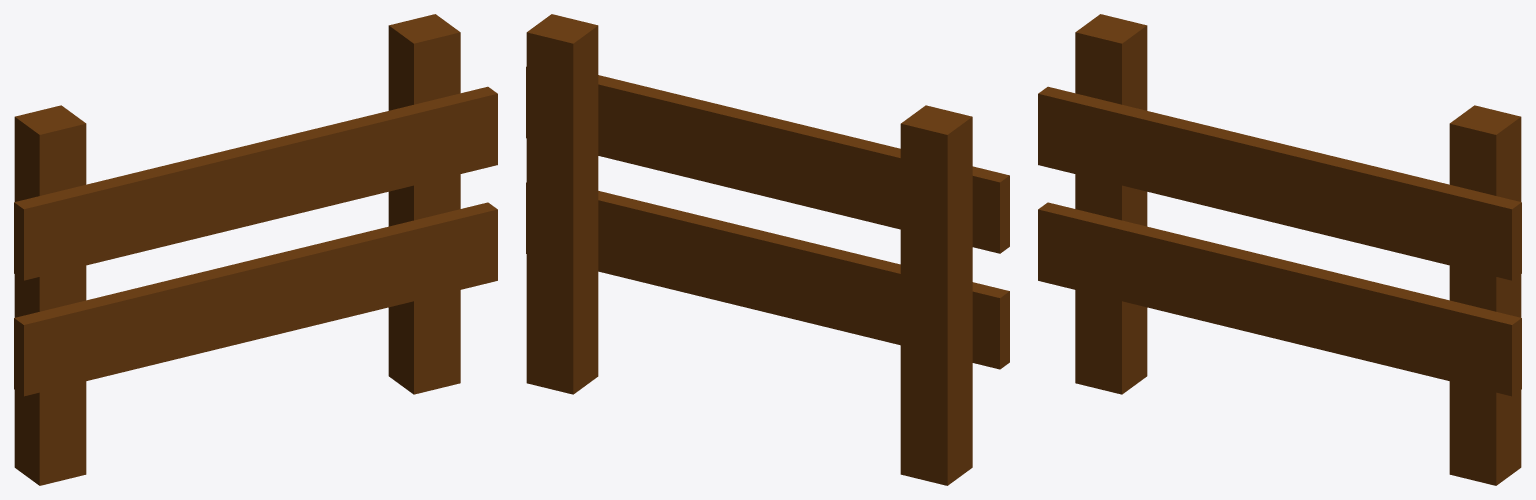
The model's file is fence.fbx.
3 views of the same model, side by side, from view 1: azimuth 30°, elevation 25°; view 2: azimuth 150°, elevation 25°; view 3: azimuth 330°, elevation 25° (orthographic).
Parts seen in each view (by area): view 1: Plane.001, Plane, Cube, Cube.001; view 2: Plane, Plane.001, Cube, Cube.001; view 3: Plane.001, Plane, Cube.001, Cube.
Part boxes in pixels (x1=…): Plane.001: x1=14, y1=202, x2=497, y2=396; Plane: x1=14, y1=86, x2=497, y2=280; Cube: x1=14, y1=105, x2=86, y2=485; Cube.001: x1=388, y1=14, x2=460, y2=394; Plane: x1=526, y1=66, x2=1009, y2=253; Plane.001: x1=526, y1=182, x2=1009, y2=369; Cube: x1=900, y1=105, x2=972, y2=485; Cube.001: x1=526, y1=14, x2=598, y2=394; Plane.001: x1=1038, y1=202, x2=1521, y2=396; Plane: x1=1038, y1=86, x2=1521, y2=280; Cube.001: x1=1449, y1=105, x2=1521, y2=485; Cube: x1=1075, y1=14, x2=1147, y2=394.
Size of the model in its own units: 283 by 200 by 36.89.
